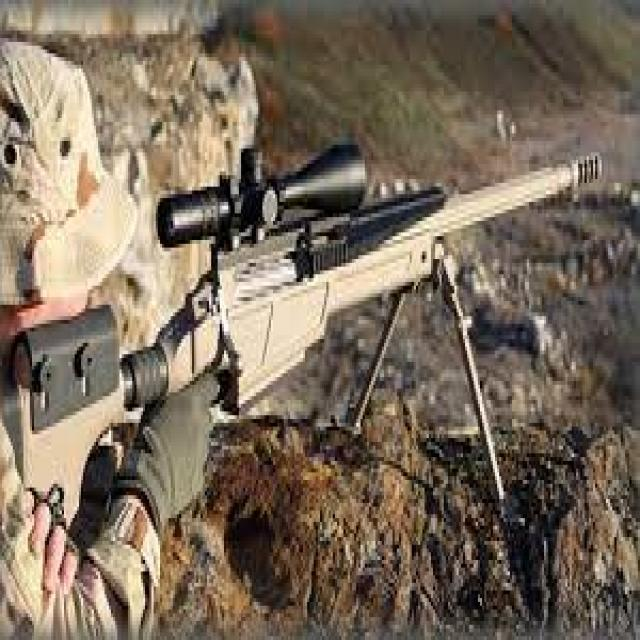rifle: (0, 130, 618, 523)
